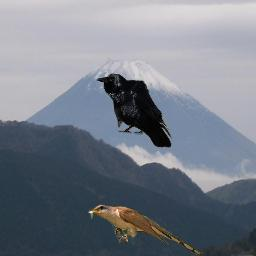Crow: (96, 73, 173, 149)
Cuckoo: (86, 204, 203, 256)
